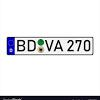0: (83, 39, 91, 52)
2: (67, 39, 75, 52)
7: (75, 39, 82, 52)
A: (54, 39, 64, 52)
B: (16, 39, 26, 52)
D: (27, 39, 36, 52)
V: (45, 39, 54, 52)
